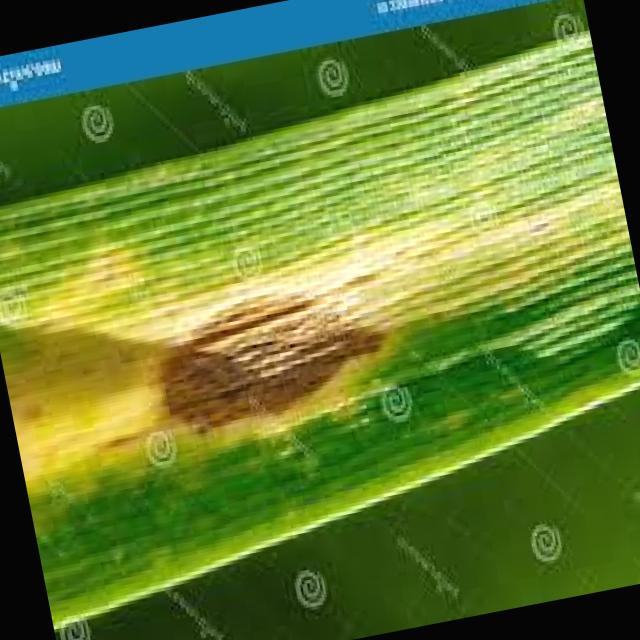leaf_blight: (0, 37, 640, 629)
